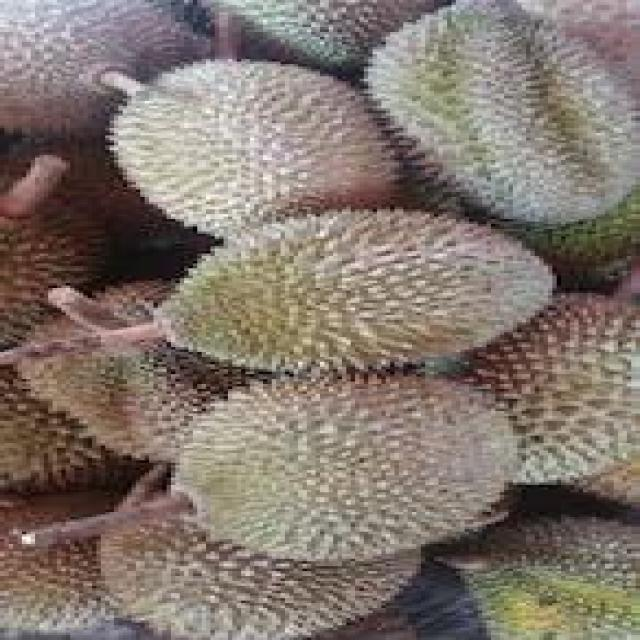mature: (158, 211, 550, 373), (174, 378, 510, 562), (109, 60, 398, 237)
